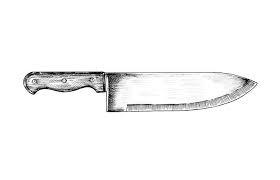Knife: (22, 70, 258, 112)
